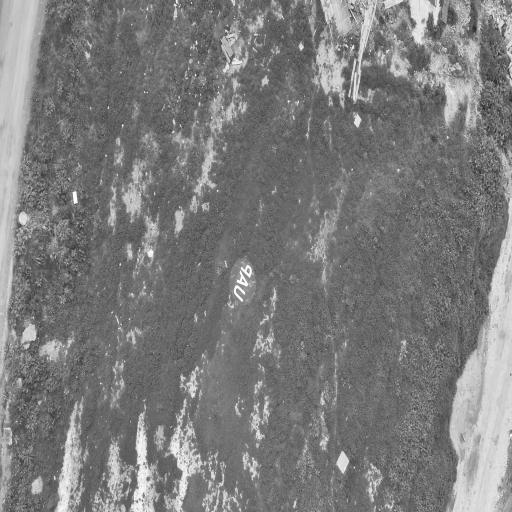UAP: (230, 259, 255, 304)
